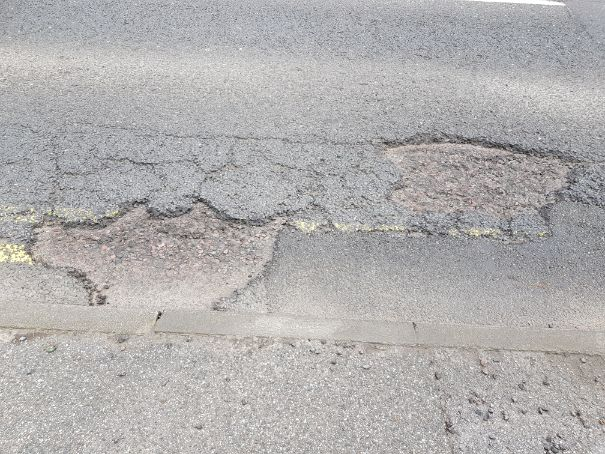pothole: (23, 187, 292, 310), (371, 130, 585, 242)
